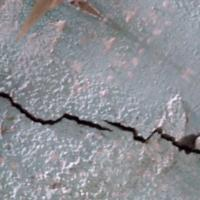crack: (0, 78, 199, 163)
